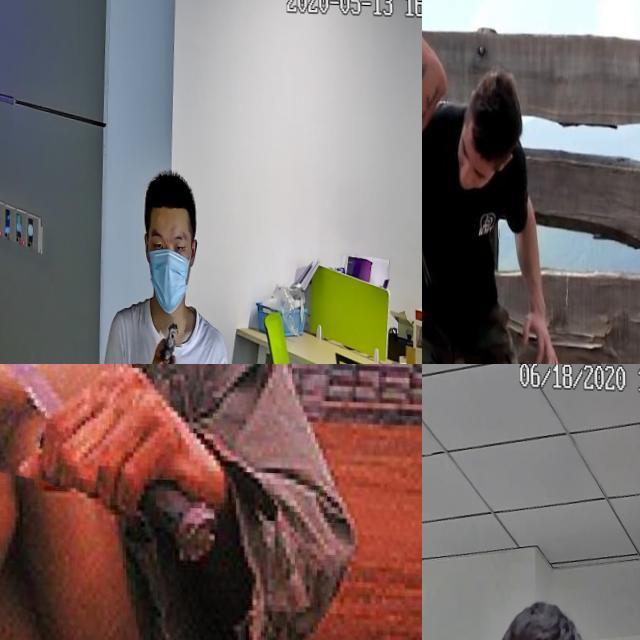-: (0, 364, 122, 483), (422, 291, 454, 364)
gun-knife-thesis - v11 Yolov5 augmented: (151, 312, 183, 364)
